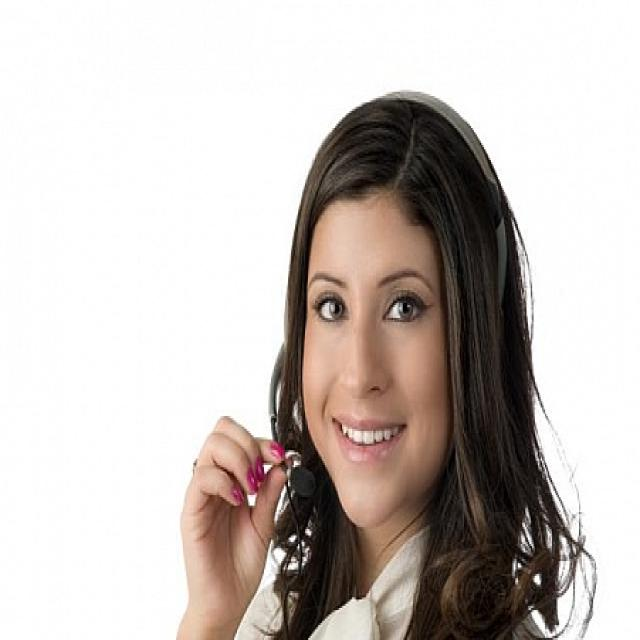Eyes: (311, 270, 433, 335)
